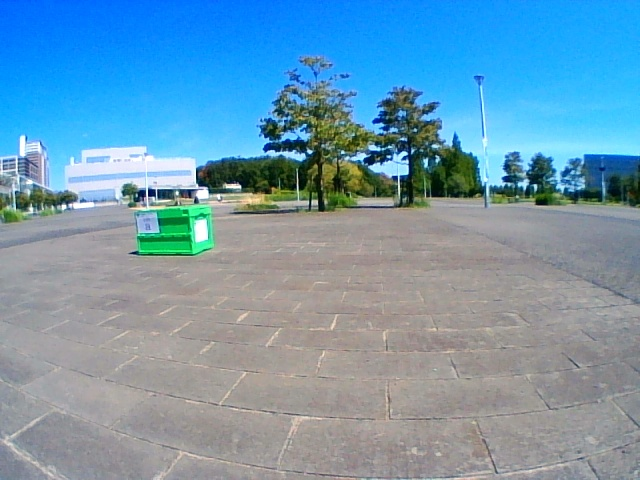green_box: (135, 206, 212, 256)
tag_a: (138, 214, 156, 232)
